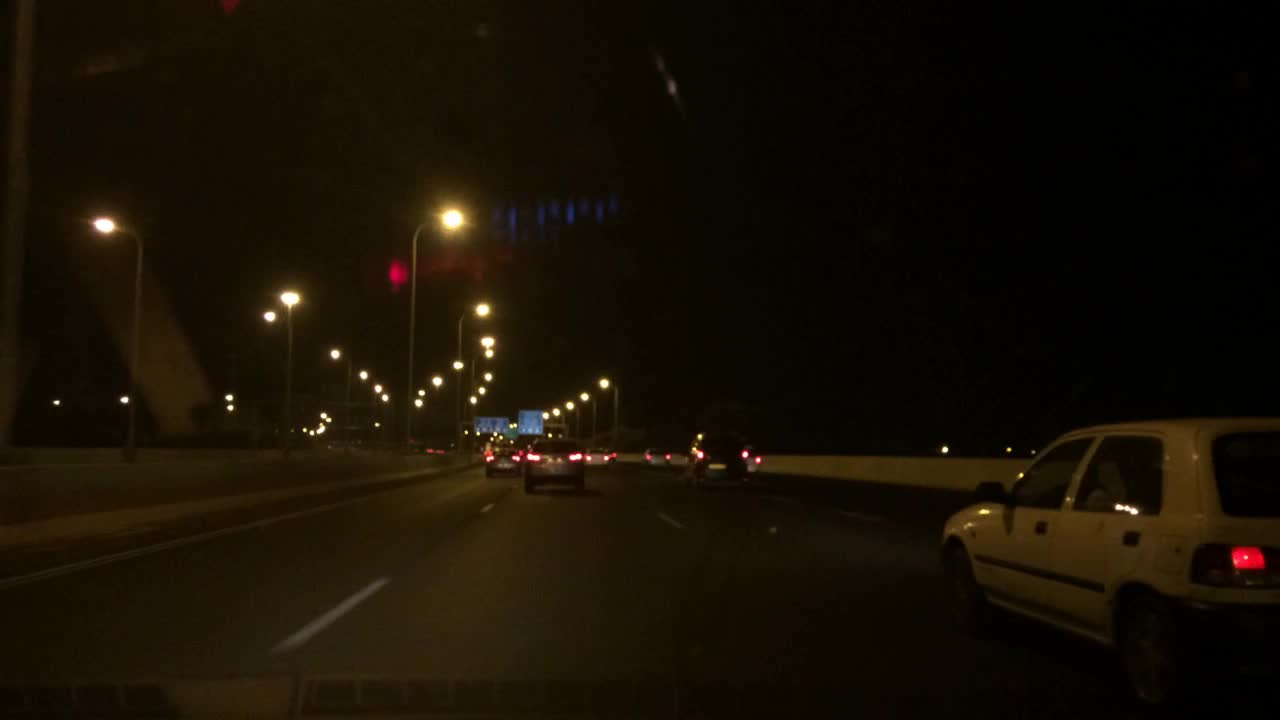car: (939, 415, 1279, 700), (524, 436, 586, 491), (686, 429, 751, 481), (484, 439, 521, 476), (645, 447, 672, 466), (746, 445, 762, 476), (583, 449, 610, 467), (607, 450, 617, 465)
traffic sign: (471, 415, 506, 436), (516, 408, 541, 435)
